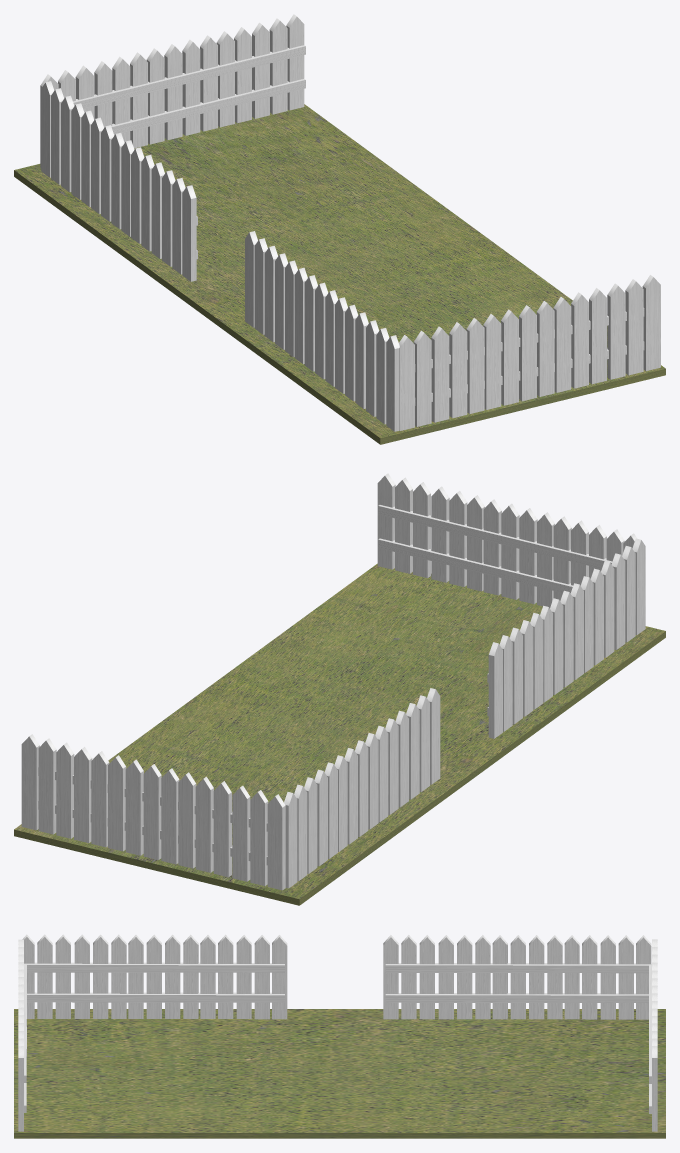
File: garden.fbx
3 views of the same model, one above another, from view 1: azimuth 30°, elevation 25°; view 2: azimuth 150°, elevation 25°; view 3: azimuth 270°, elevation 25° (orthographic). The views are drawn at different scales.
Parts seen in each view (by area): view 1: grass01, fence006, fence01, fence003, fence004; view 2: grass01, fence01, fence006, fence004, fence003; view 3: grass01, fence003, fence004, fence01, fence006.
Part boxes in pixels (box(x1,y1,x2,y2)): grass01: box(14, 104, 665, 444); fence006: box(399, 275, 660, 430); fence01: box(40, 14, 305, 168); fence003: box(41, 81, 197, 281); fence004: box(245, 231, 399, 431); grass01: box(14, 563, 665, 905); fence01: box(21, 734, 285, 890); fence006: box(377, 473, 637, 607); fence004: box(487, 538, 645, 738); fence003: box(284, 688, 440, 888); grass01: box(14, 1009, 665, 1138); fence003: box(383, 935, 651, 1019); fence004: box(22, 934, 287, 1019); fence01: box(649, 939, 657, 1131); fence006: box(18, 939, 26, 1131).
Size of the model in its own units: 16.63 by 5.51 by 36.96.
Materials: 2 (2 with a texture image).
